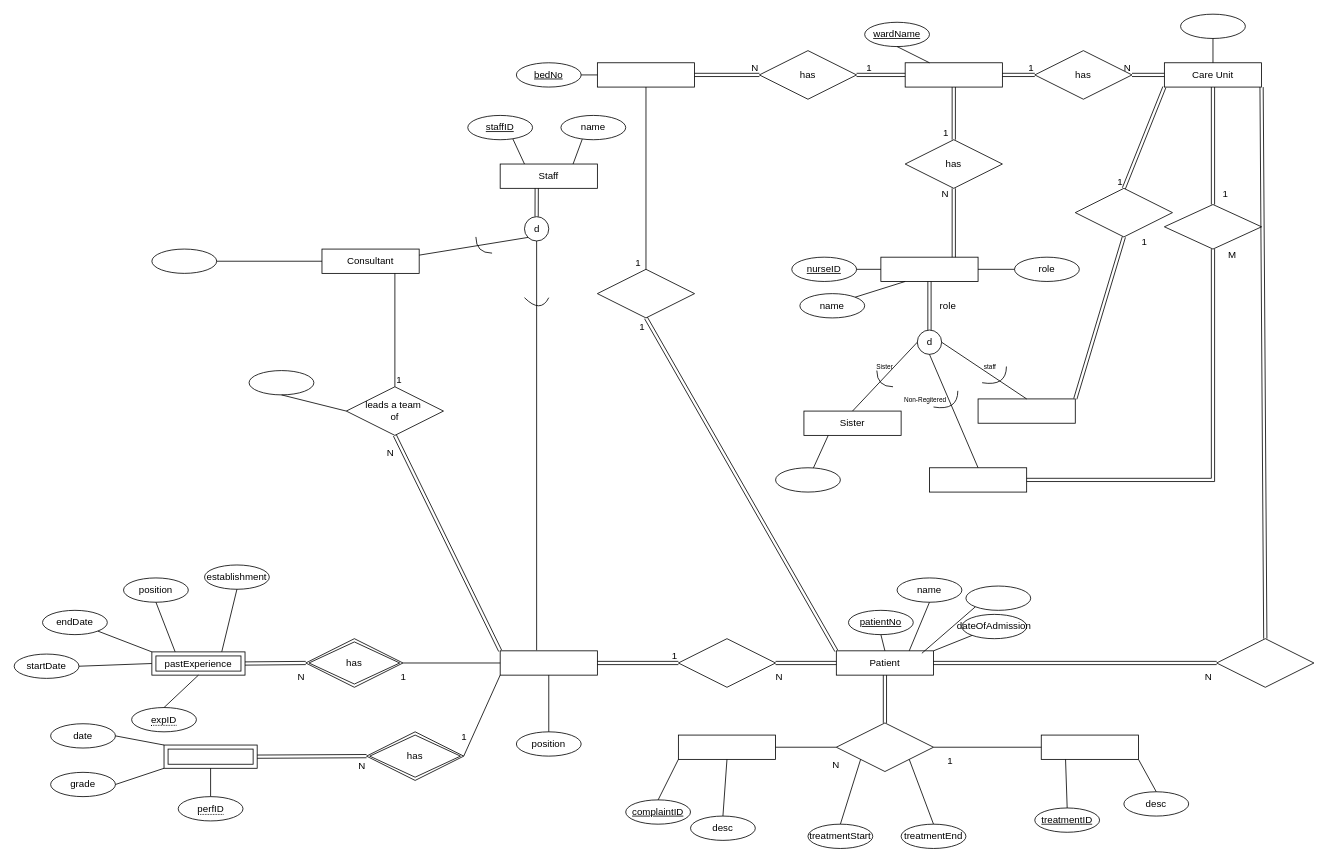
Some shapes in this 1328 by 863 pixel diagram are drawn without their labels. The centre of each missing label's shape, as x and y in pixels:
assigned to: point (1213, 226)
bed: point (646, 74)
Complaint: point (727, 746)
dateJoined: point (281, 382)
dOB: point (998, 597)
Doctor: point (548, 662)
in: point (1265, 662)
manages: point (1123, 212)
Non-Regitered nurse: point (978, 479)
Nurse: point (929, 268)
occupies: point (646, 293)
patient treatment plan: point (885, 747)
performanceGrade: point (210, 756)
specialty: point (184, 260)
Staff Nurse: point (1026, 410)
time: point (807, 479)
Treatment: point (1089, 746)
under the treatment of: point (727, 662)
unitNo: point (1212, 25)
Ward: point (953, 74)
